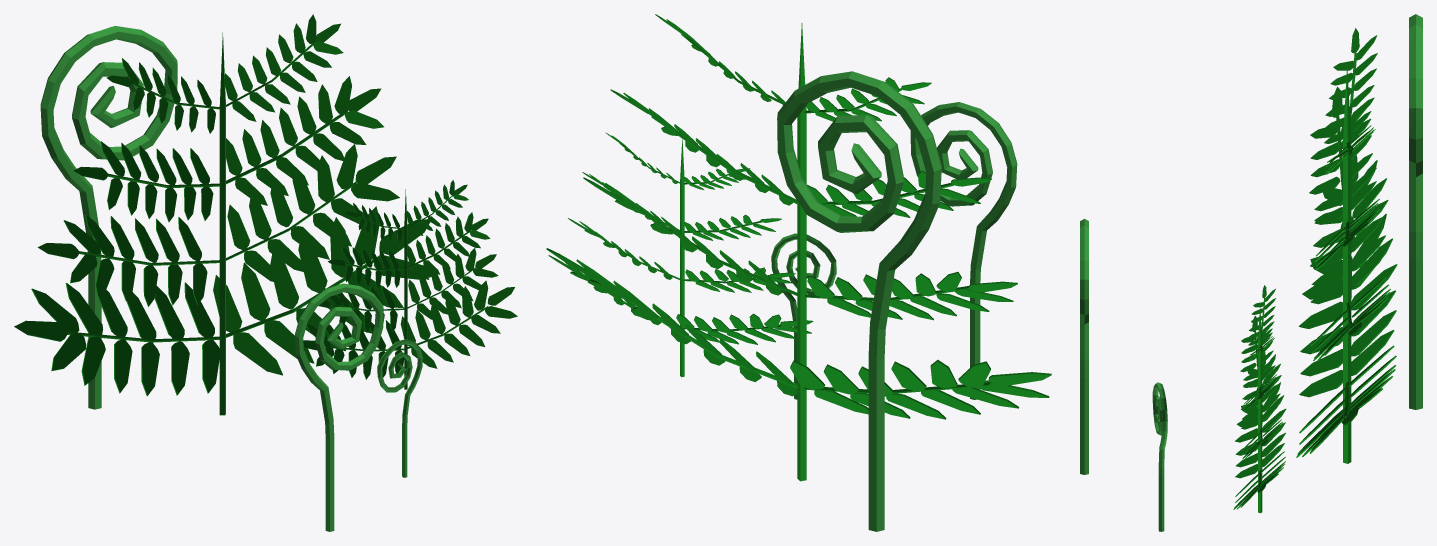
Rendered from gosari.fbx.
3 renders of one model, left to right at view 1: azimuth 30°, elevation 25°; view 2: azimuth 150°, elevation 25°; view 3: azimuth 270°, elevation 25°, orthographic. The views are drawn at different scales.
Parts seen in each view (by area): view 1: Cylinder004; view 2: Cylinder004; view 3: Cylinder004.
Part boxes in pixels (box(x1,y1,x2,y2)): Cylinder004: box(14, 14, 517, 531); Cylinder004: box(546, 14, 1051, 531); Cylinder004: box(1080, 14, 1422, 531).
Bounding box in the file's own units: 44.06 × 36.9 × 27.19.
